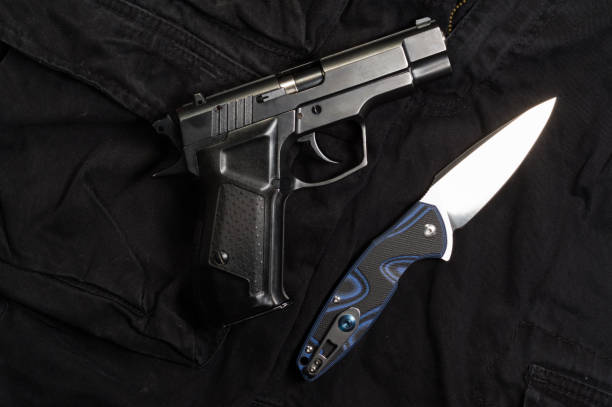gun: (170, 15, 454, 312)
knife: (294, 98, 557, 380)
